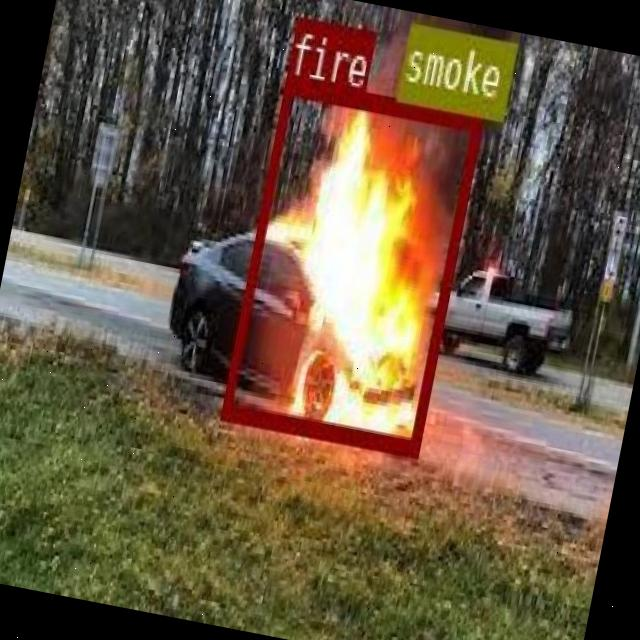fire: (220, 75, 482, 453)
smoke: (395, 19, 516, 118)
